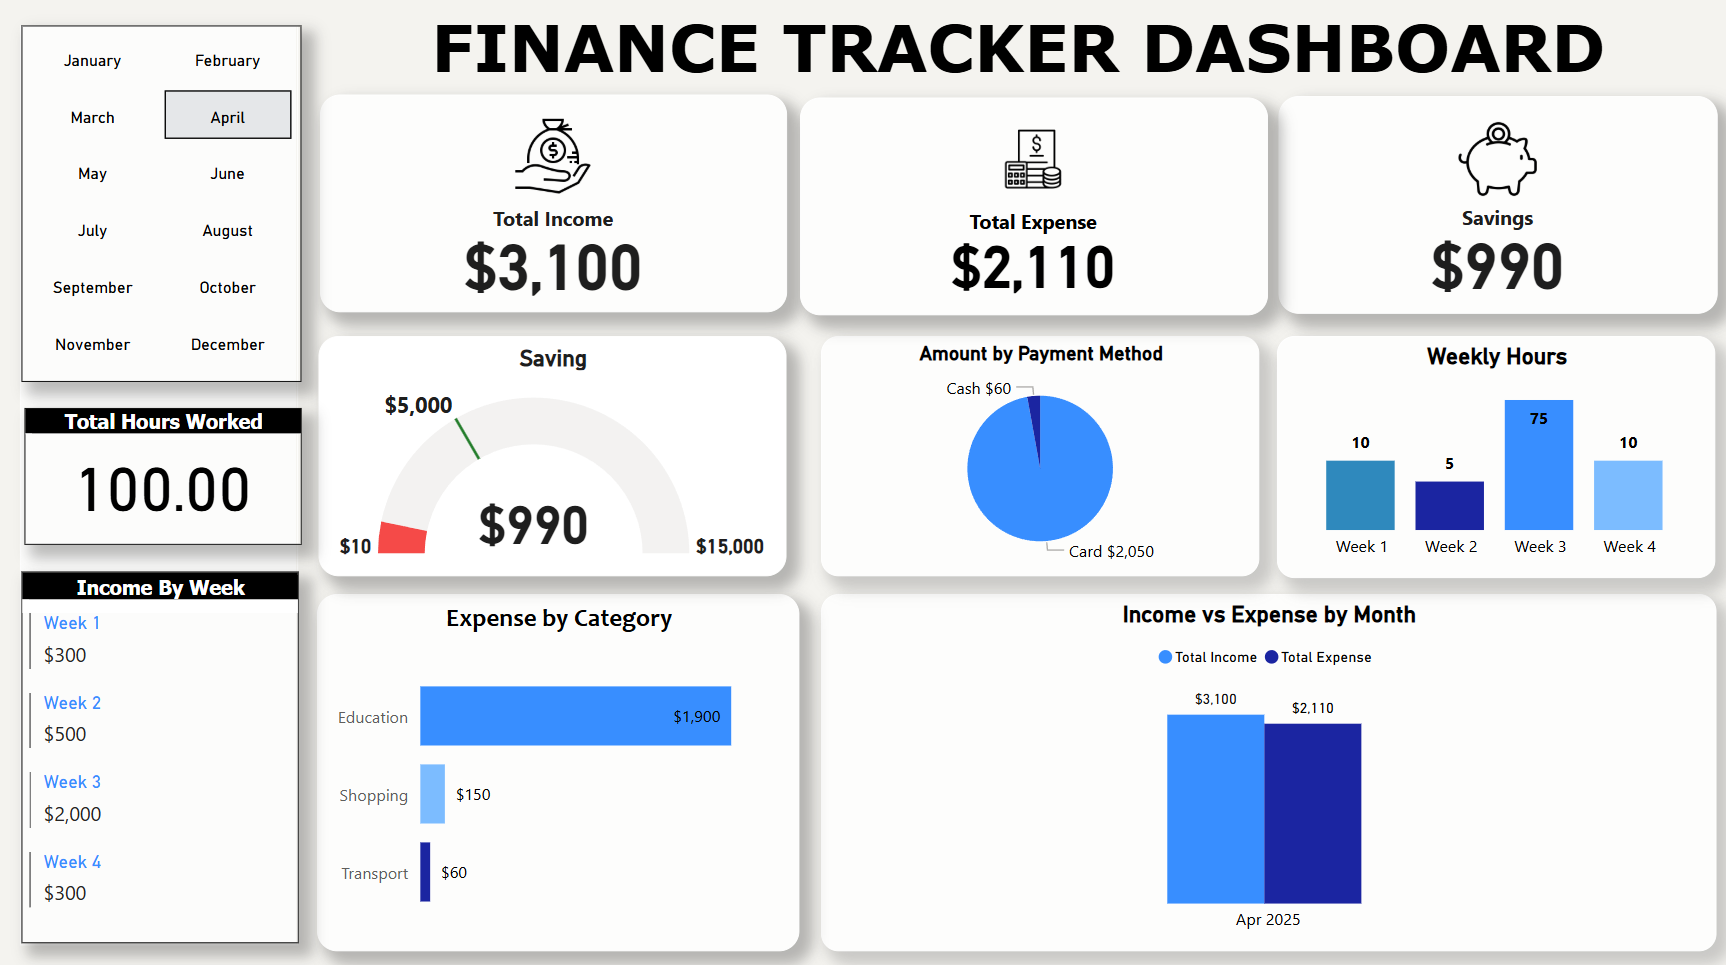

This screenshot's page, from the dashboard's own definition file:
{"tool":"powerbi","page":{"name":"Page 1","canvas":[1280,720],"ordinal":0},"visuals":[{"type":"cardVisual","title":"Expense","fields":{"Data":["public expense_data.Savings"]},"box":[947.5,71.2,325,161.2],"z":0},{"type":"cardVisual","title":"Savings","fields":{"Data":["public expense_data.Total Income"]},"box":[237.5,70,346.2,161.2],"z":1000},{"type":"clusteredColumnChart","title":"Income vs Expense by Month","fields":{"Category":["DateTable.MonthoftheYear"],"Y":["public expense_data.Total Income","public expense_data.TotalExpense"]},"box":[608.9,440.4,663.1,264.7],"z":2000},{"type":"shape","box":[16,18.5,205.8,681.5],"z":3000},{"type":"clusteredBarChart","title":"Expense by Category","fields":{"Category":["public expense_data.category"],"Y":["Sum(public expense_data.amount)"]},"box":[235.9,440.4,357.4,264.7],"z":4000},{"type":"advancedSlicerVisual","title":"Month Name","fields":{"Values":["DateTable.MonthName"]},"box":[16.2,18.8,207.5,263.8],"z":5000},{"type":"gauge","title":"Saving","fields":{"Y":["public expense_data.Savings"]},"box":[237.1,249.1,346.6,178.1],"z":6000},{"type":"pieChart","title":"Amount by Payment Method","fields":{"Y":["Sum(public expense_data.amount)"],"Category":["public expense_data.payment_method"]},"box":[608.9,249.1,324.9,178.1],"z":7000},{"type":"cardVisual","title":"Total Hours Worked","fields":{"Data":["Sum(public income_data.hours_worked)"]},"box":[18.8,302.5,205,101.2],"z":8000},{"type":"clusteredColumnChart","title":"Weekly Hours","fields":{"Category":["DateTable.WeekOfMonthLabel"],"Y":["Sum(public income_data.hours_worked)"]},"box":[947.1,249.1,324.9,179.3],"z":9000},{"type":"textbox","box":[265,0,978.8,70],"z":10000},{"type":"multiRowCard","title":"Income By Week","fields":{"Values":["public income_data.WeeklyIncome","DateTable.WeekOfMonthLabel"]},"box":[16.2,423.8,205,275],"z":11000},{"type":"cardVisual","title":"Savings","fields":{"Data":["public expense_data.TotalExpense"]},"box":[593.9,72.1,346.7,161.3],"z":12000}]}

Visuals, with their boxes in screenshot pixels (x1, y1, x2, y2), scaled from the page's 1280x720 canvas onto the 1726x965 screenshot:
"Expense" cardVisual: <region>1278, 95, 1716, 311</region>
"Savings" cardVisual: <region>320, 94, 787, 310</region>
"Income vs Expense by Month" clusteredColumnChart: <region>821, 590, 1715, 945</region>
shape: <region>22, 25, 299, 938</region>
"Expense by Category" clusteredBarChart: <region>318, 590, 800, 945</region>
"Month Name" advancedSlicerVisual: <region>22, 25, 302, 379</region>
"Saving" gauge: <region>320, 334, 787, 573</region>
"Amount by Payment Method" pieChart: <region>821, 334, 1259, 573</region>
"Total Hours Worked" cardVisual: <region>25, 405, 302, 541</region>
"Weekly Hours" clusteredColumnChart: <region>1277, 334, 1715, 574</region>
textbox: <region>357, 0, 1677, 94</region>
"Income By Week" multiRowCard: <region>22, 568, 298, 937</region>
"Savings" cardVisual: <region>801, 97, 1268, 313</region>
